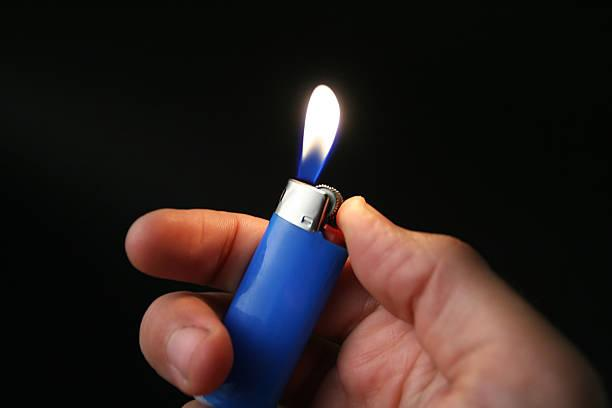Fire: (294, 79, 344, 182)
